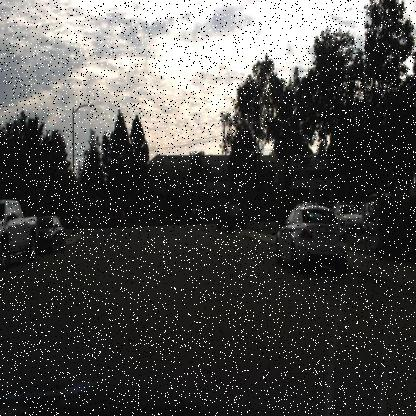car: (276, 201, 349, 277), (274, 204, 348, 278), (0, 197, 38, 276), (33, 210, 66, 261), (34, 215, 67, 251), (212, 201, 246, 235), (96, 206, 128, 231), (100, 206, 130, 228), (62, 213, 86, 231), (63, 210, 81, 232), (189, 200, 203, 223)
